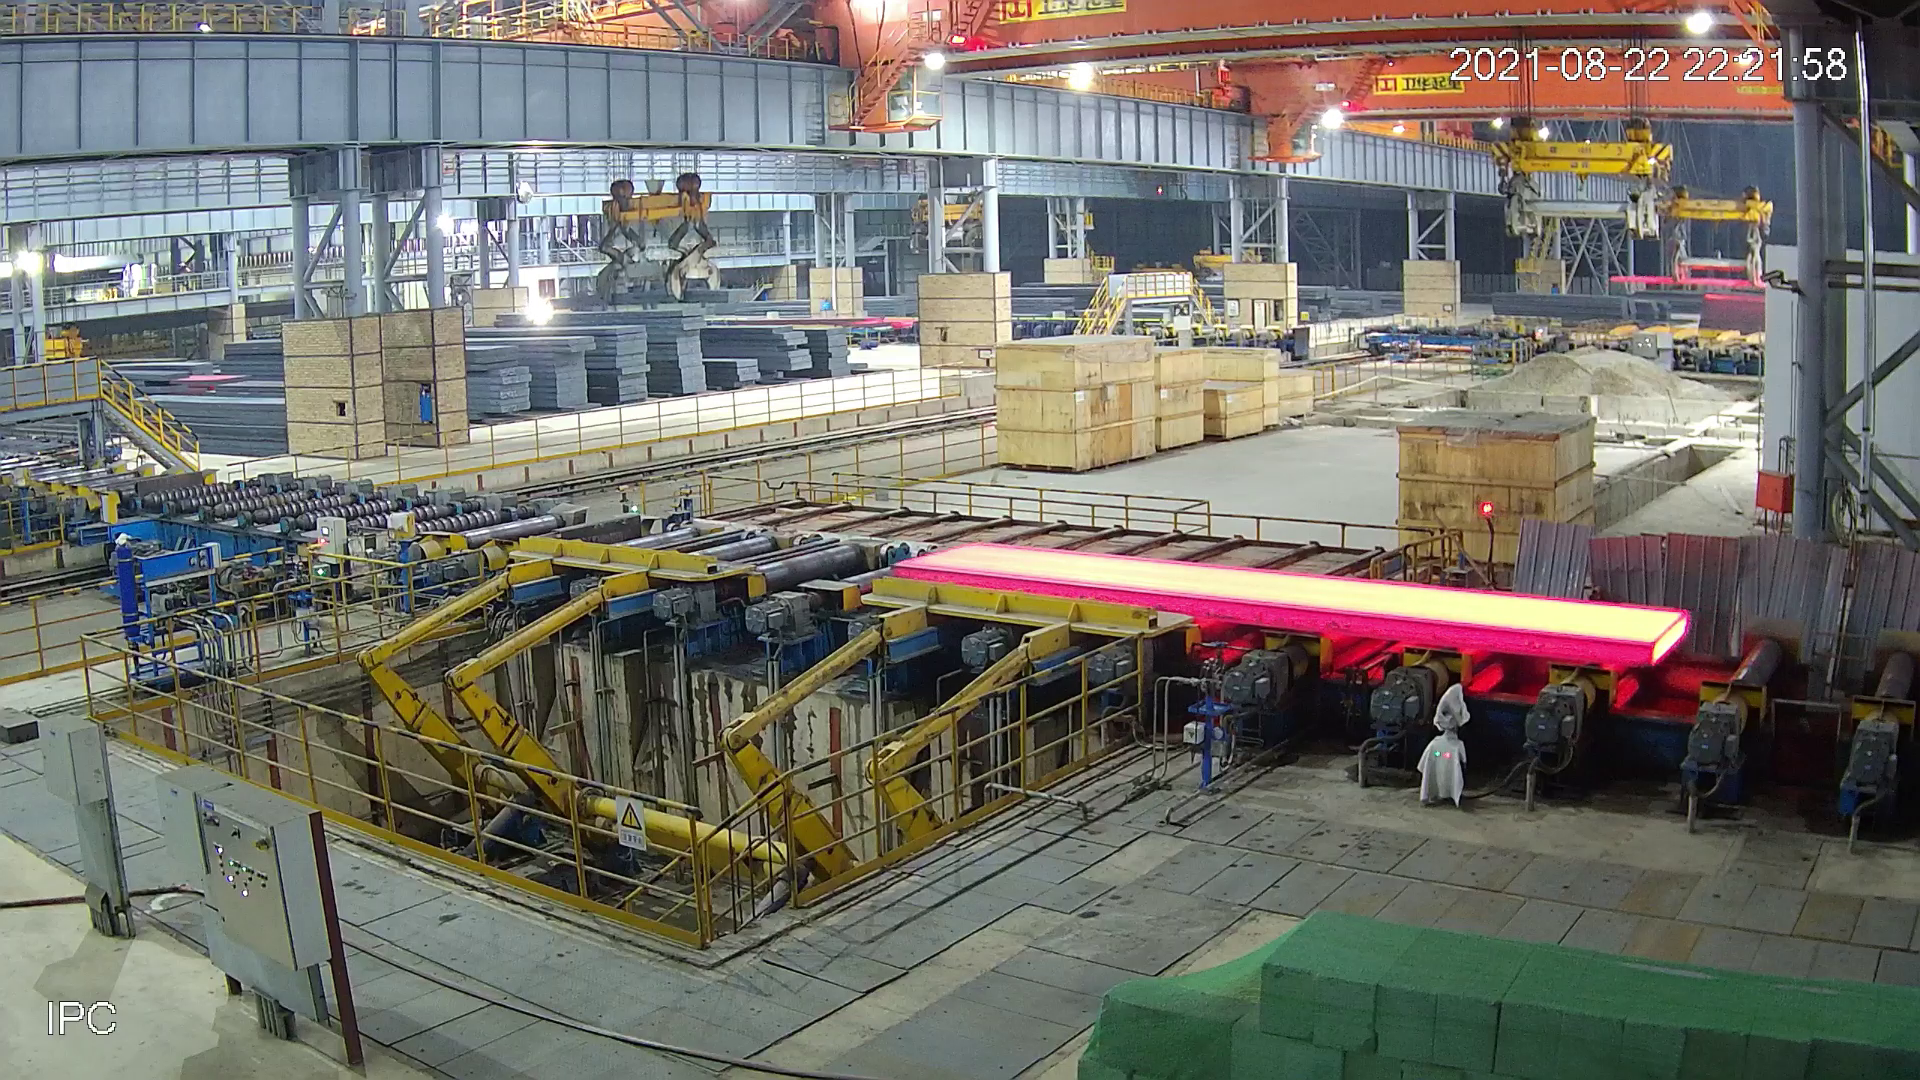slab: (891, 542, 1691, 665)
